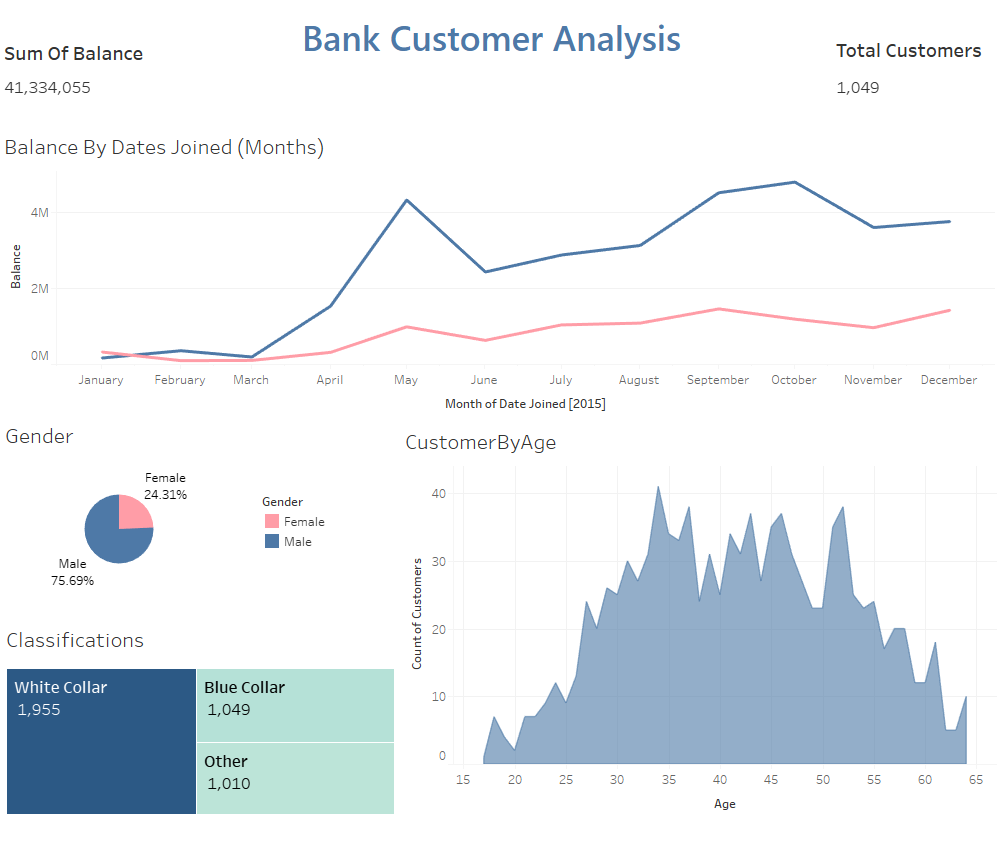

The page's visual inventory and layout, read from the dashboard file:
{"tool":"tableau","page":{"name":"Dashboard","canvas":[1000,1000],"units":"permille","ordinal":0},"visuals":[{"type":"worksheet","title":"Header","mark":"Automatic","box":[299,10.5,394,71.2]},{"type":"worksheet","title":"TotalCustomers","mark":"Automatic","box":[833,37.3,167,79.4]},{"type":"worksheet","title":"Balance","mark":"Automatic","box":[1,40.8,173,73.5]},{"type":"worksheet","title":"Balance&Dates","mark":"Automatic","rows":["Balance"],"cols":["Date Joined"],"box":[1,149.4,995,339.6]},{"type":"worksheet","title":"Gender","mark":"Pie","box":[2,486.6,236,211.2]},{"type":"worksheet","title":"CustomerByAge","mark":"Area","rows":["Customer ID"],"cols":["Age"],"box":[402,493.6,596,462.1]},{"type":"legend","title":"Gender","param":"[federated.17tjnd31eym9wk1epqay2156y1is].[none:Gender:nk]","box":[263,575.3,100,67.7]},{"type":"worksheet","title":"Classifications","mark":"Automatic","box":[3,724.6,396,231]}]}

Visuals, with their boxes on the dashboard's canvas, which has no fixed pixel size, in thousandths of its width and height (x1, y1, x2, y2). These are canvas units, not pixel positions in the 998x854 screenshot, which may show the page scaled, cropped or inside an application window:
"Header" worksheet: box(299, 10, 693, 82)
"TotalCustomers" worksheet: box(833, 37, 1000, 117)
"Balance" worksheet: box(1, 41, 174, 114)
"Balance&Dates" worksheet: box(1, 149, 996, 489)
"Gender" worksheet (Pie marks): box(2, 487, 238, 698)
"CustomerByAge" worksheet (Area marks): box(402, 494, 998, 956)
"Gender" legend: box(263, 575, 363, 643)
"Classifications" worksheet: box(3, 725, 399, 956)
